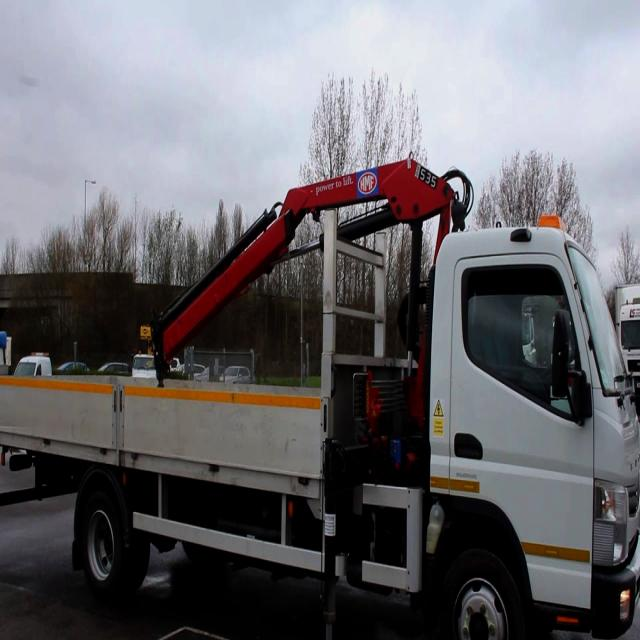truck: (1, 155, 640, 640)
